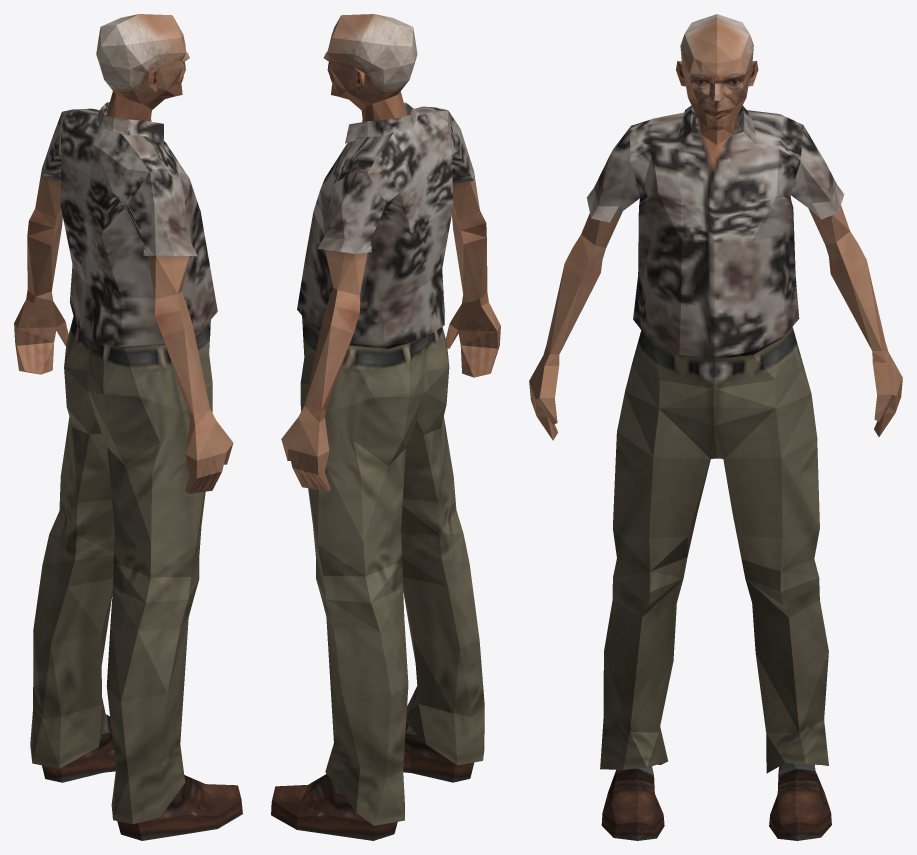
File: swmori.obj
The picture shows the model from 3 angles, left to right: view 1: azimuth 30°, elevation 25°; view 2: azimuth 150°, elevation 25°; view 3: azimuth 270°, elevation 25°; orthographic projection. The views are drawn at different scales.
Visible parts, largest first — view 1: _Pelvis; view 2: _Pelvis; view 3: _Pelvis.
Boxes of the visible parts, x1,y1,x2,y2 form: _Pelvis: (14, 14, 242, 840); _Pelvis: (271, 14, 500, 840); _Pelvis: (529, 14, 902, 840).
Bounding box in the file's own units: 0.3157 × 1.67 × 0.7121.
1 material, 1 textured.
